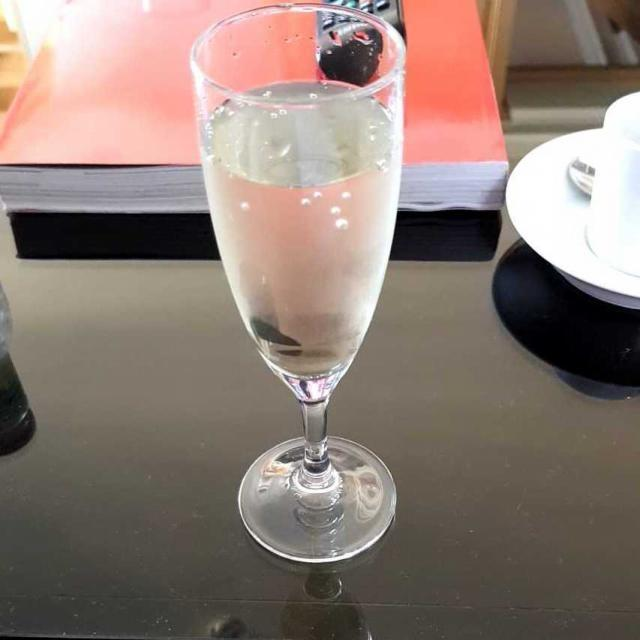champagne: (208, 134, 398, 376)
